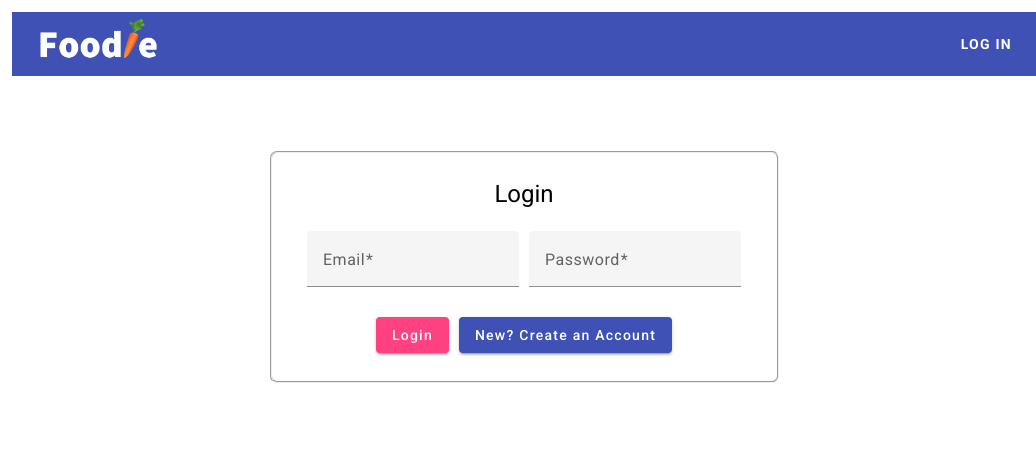
Test: Test Log in functionality › Should not login with a invalid account
In the element with test id "email-input": (413,270) 302,226 -> 524,314, type "invalidEmail@email.com"
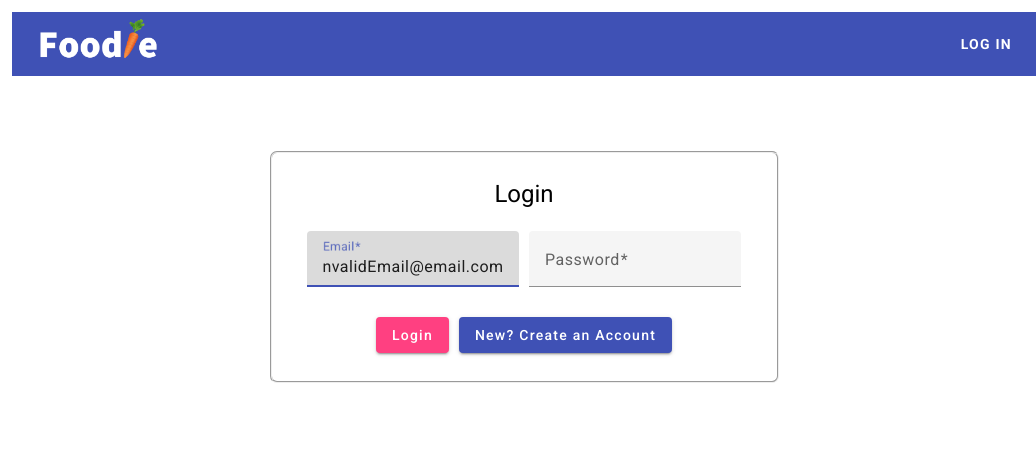
In the element with test id "password-input": (635,270) 524,226 -> 746,314, type "invalidPassword"
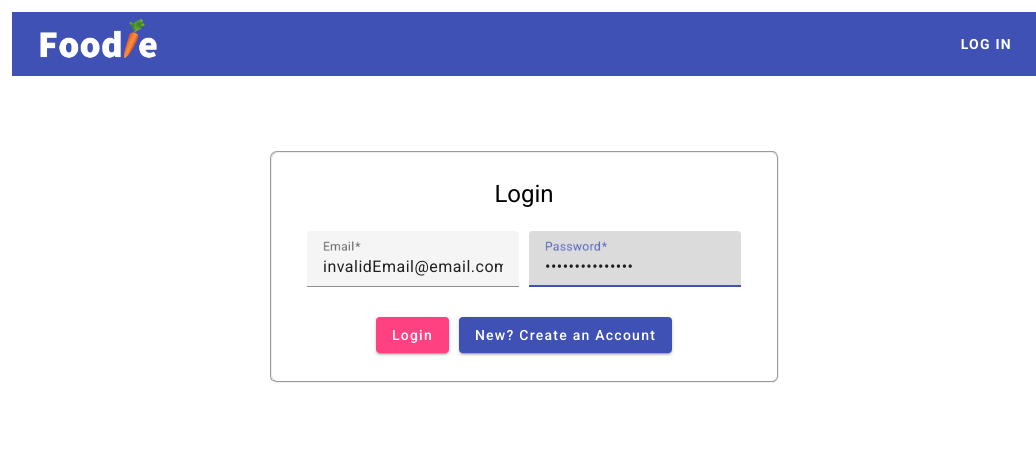
Click the button with test id "login-button": (413,335) 376,317 -> 449,353
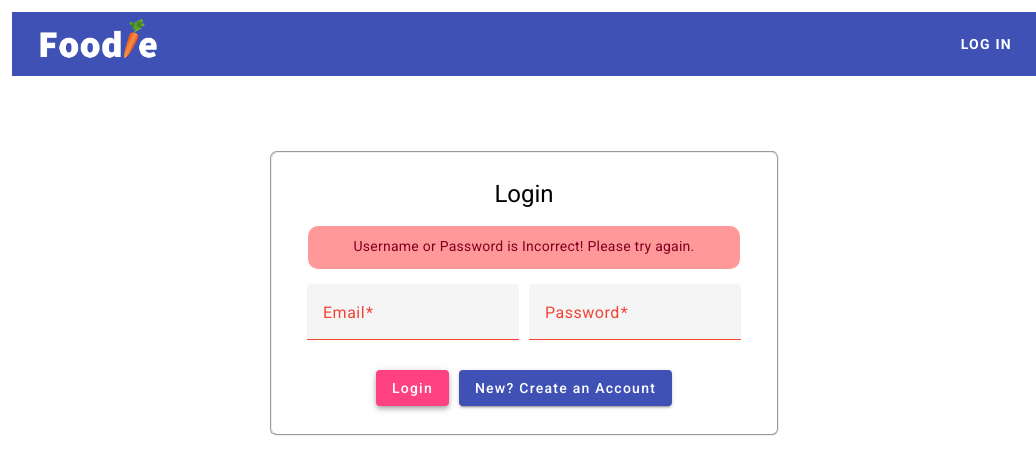
Expected: the element with class "errorTopper" is shown, 308,226 -> 740,269
Expected: the text "Username or Password is Incorrect! Please try again." is shown, 354,238 -> 695,254
